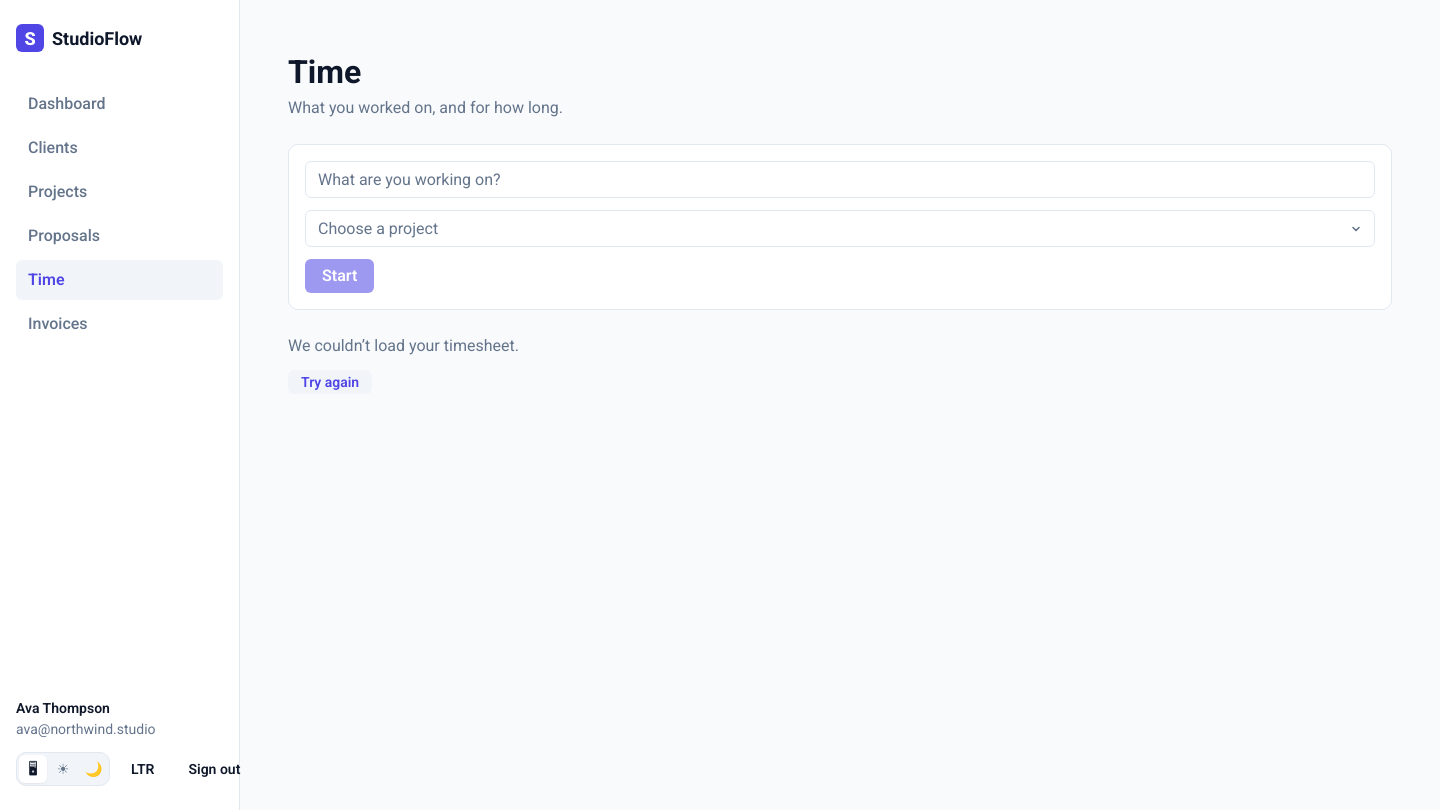
Test: TimeTrackingPage — the timer › refuses to start a second timer, and says why
Expected: the heading "Time" is shown, [288,53,361,91]
What coordinates should you click on to do the following:
click the dropdown labelled "project"
I would click on:
 (378, 228)
Its box is [305,210,1375,247].
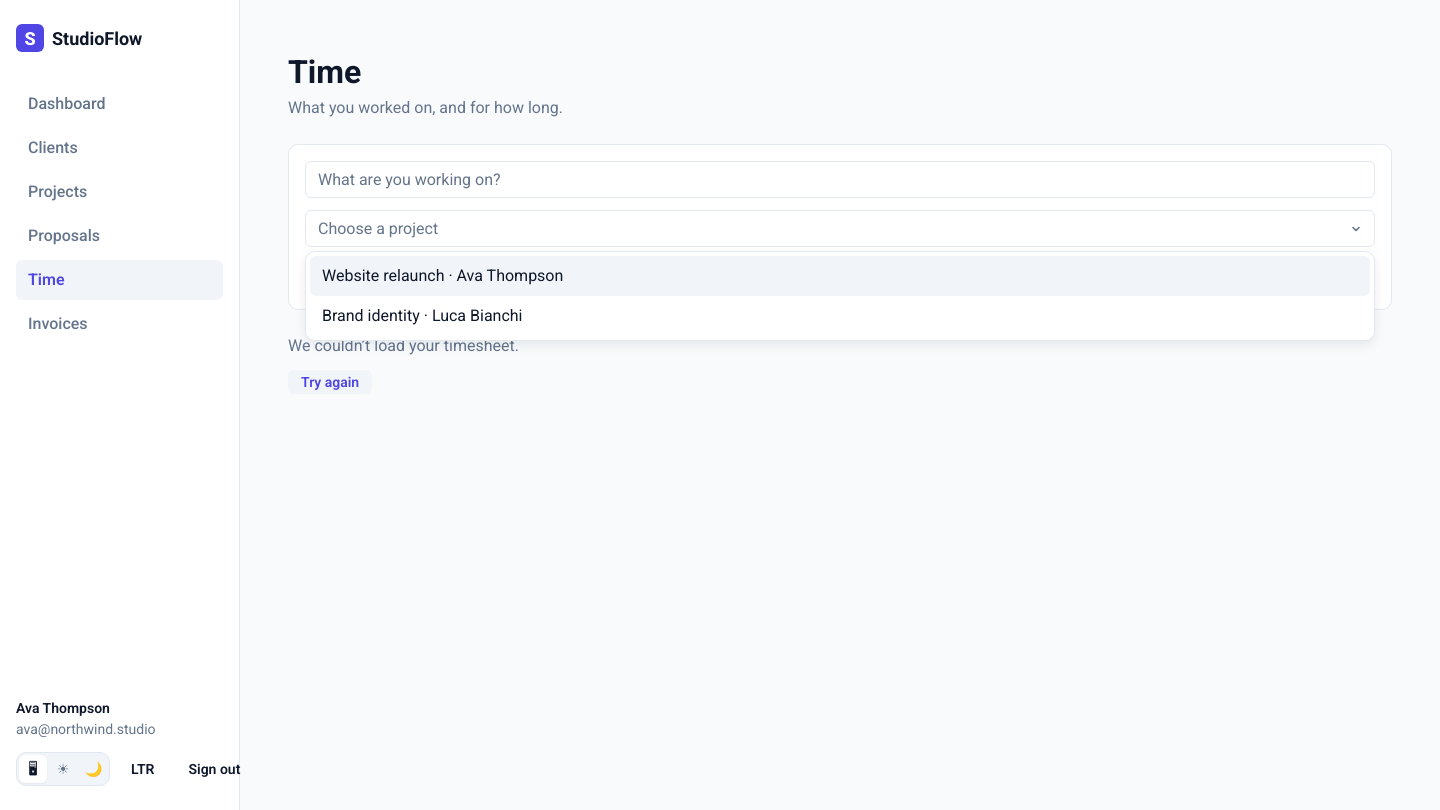
What coordinates should you click on to do the following:
click the option "Website relaunch · Ava Thompson"
I would click on:
 (443, 276)
Its box is [310,256,1370,296].
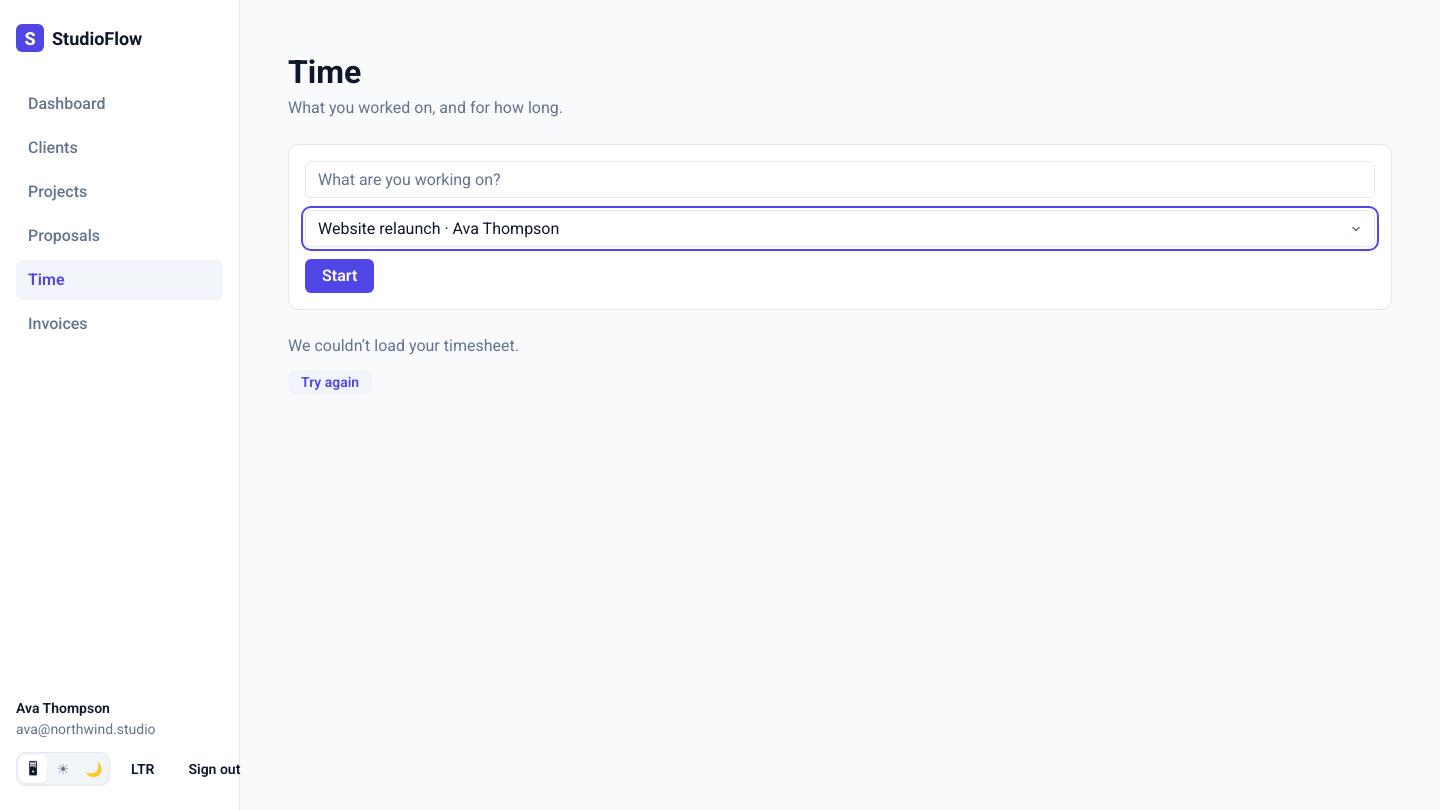
What coordinates should you click on to do the following:
click the button "Start"
I would click on:
 (340, 276)
Its box is [305,259,374,293].
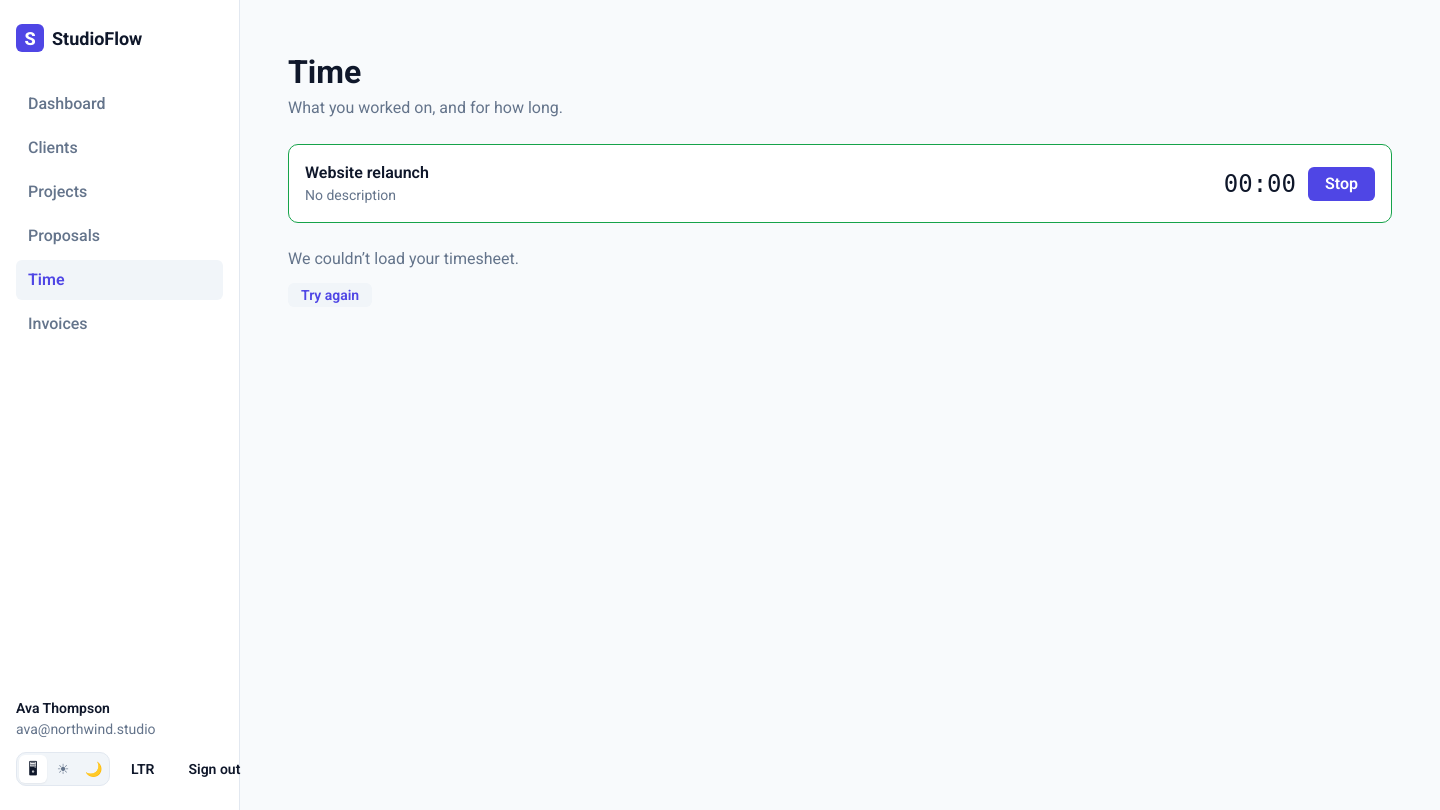
Expected: the button "Stop" is shown, [1308,166,1375,200]
Expected: the button "Start" is gone
